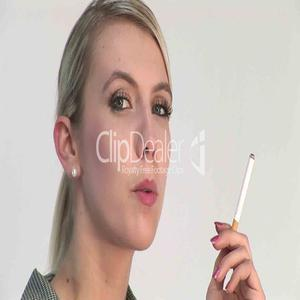cigarette: (226, 153, 255, 249)
